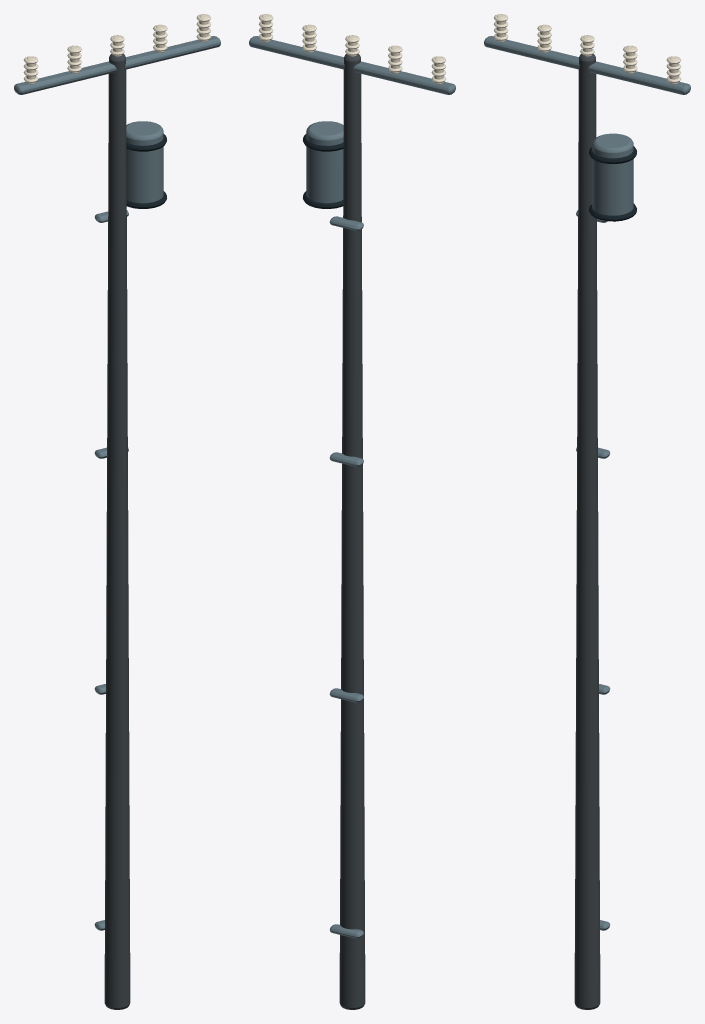
File: utility_pole.glb
The picture shows the model from 3 angles, left to right: view 1: azimuth 30°, elevation 25°; view 2: azimuth 150°, elevation 25°; view 3: azimuth 330°, elevation 25°; orthographic projection.
Parts seen in each view (by area): view 1: Detail.utility_pole.Concrete, Detail.utility_pole.Metal, Detail.utility_pole.Ivory, Detail.utility_pole.Dark; view 2: Detail.utility_pole.Concrete, Detail.utility_pole.Metal, Detail.utility_pole.Ivory, Detail.utility_pole.Dark; view 3: Detail.utility_pole.Concrete, Detail.utility_pole.Metal, Detail.utility_pole.Ivory, Detail.utility_pole.Dark.
Part boxes in pixels (x1,y1,x2,y2): Detail.utility_pole.Concrete: (104, 54, 130, 1009); Detail.utility_pole.Metal: (14, 36, 220, 930); Detail.utility_pole.Ivory: (23, 14, 210, 84); Detail.utility_pole.Dark: (126, 134, 166, 208); Detail.utility_pole.Concrete: (339, 54, 365, 1009); Detail.utility_pole.Metal: (249, 36, 455, 938); Detail.utility_pole.Ivory: (259, 14, 446, 84); Detail.utility_pole.Dark: (303, 134, 343, 208); Detail.utility_pole.Concrete: (574, 54, 600, 1009); Detail.utility_pole.Metal: (484, 36, 690, 930); Detail.utility_pole.Ivory: (494, 14, 681, 84); Detail.utility_pole.Dark: (589, 146, 636, 221).
Bounding box in the file's own units: 2.7 × 12.32 × 0.56.
